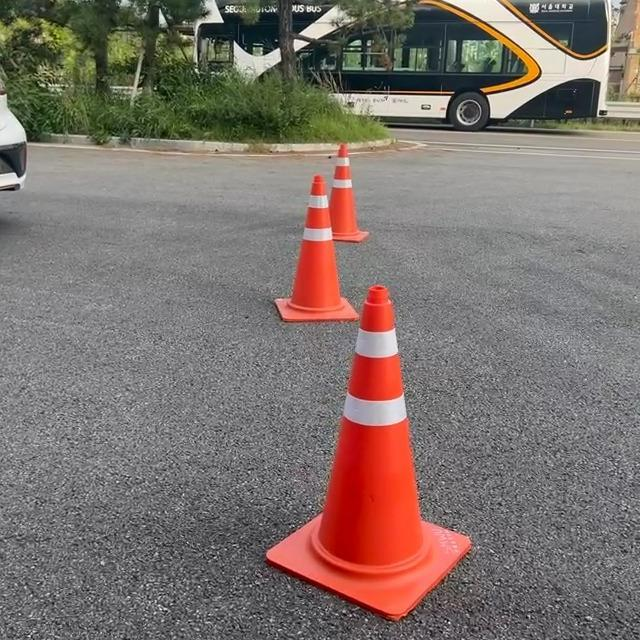fallen_object: (250, 295, 529, 620), (259, 155, 385, 319), (284, 132, 413, 243)
